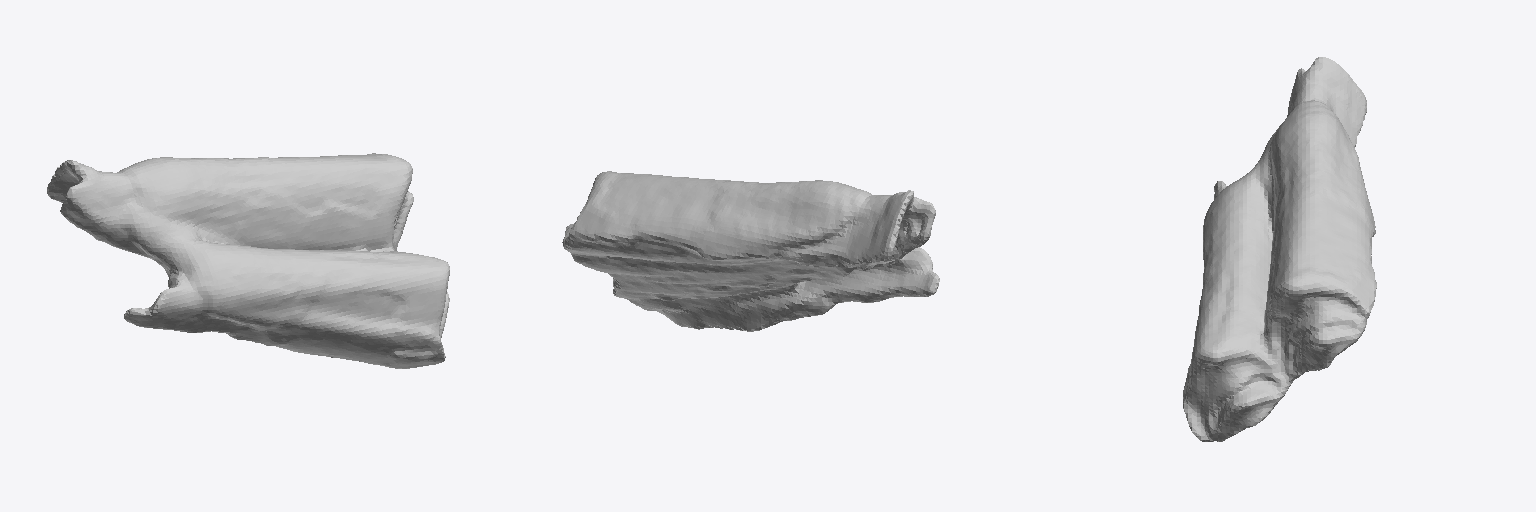
The model's file is MB Ovis 3 M2.obj.
3 views of the same model, side by side, from view 1: azimuth 30°, elevation 25°; view 2: azimuth 150°, elevation 25°; view 3: azimuth 270°, elevation 25° (orthographic).
Bounding box in the file's own units: 29.41 × 18.79 × 13.83.